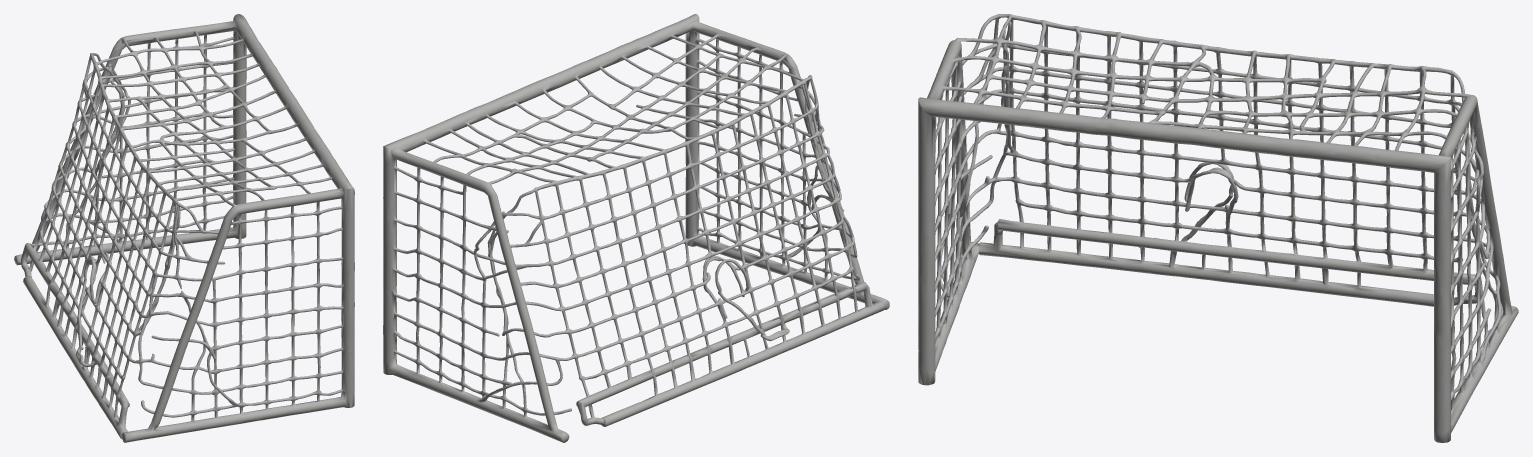
Rendered from goal.glb.
3 views of the same model, side by side, from view 1: azimuth 30°, elevation 25°; view 2: azimuth 150°, elevation 25°; view 3: azimuth 270°, elevation 25° (orthographic). The views are drawn at different scales.
Visible parts, largest first — view 1: tripo_node_ed687e58-73ed-4830-be25-4341a0774521; view 2: tripo_node_ed687e58-73ed-4830-be25-4341a0774521; view 3: tripo_node_ed687e58-73ed-4830-be25-4341a0774521.
Part boxes in pixels (<box>): tripo_node_ed687e58-73ed-4830-be25-4341a0774521: <box>14,14,354,442</box>; tripo_node_ed687e58-73ed-4830-be25-4341a0774521: <box>383,14,889,442</box>; tripo_node_ed687e58-73ed-4830-be25-4341a0774521: <box>918,14,1518,442</box>.
Size of the model in its own units: 0.7543 by 0.5208 by 0.9997.
1 material, 1 textured.
